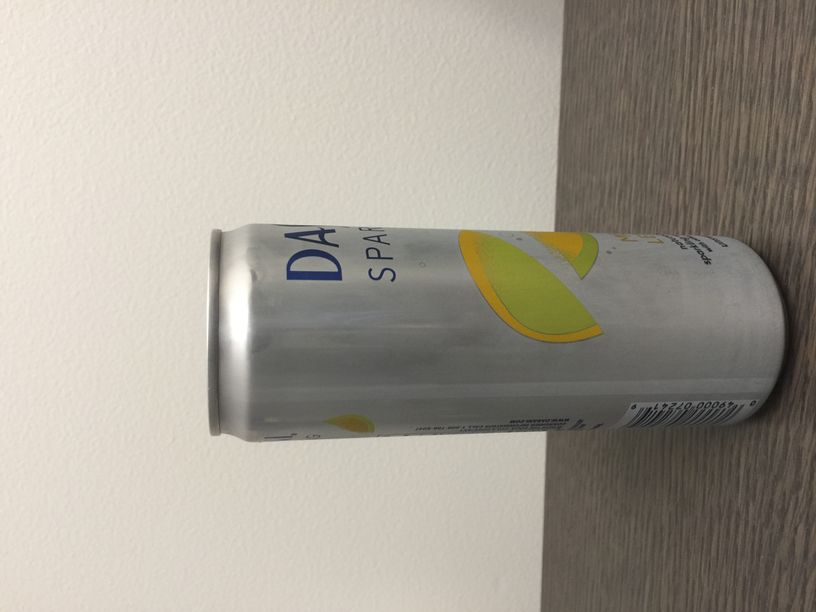lemon: (425, 227, 671, 352), (314, 412, 390, 437)
